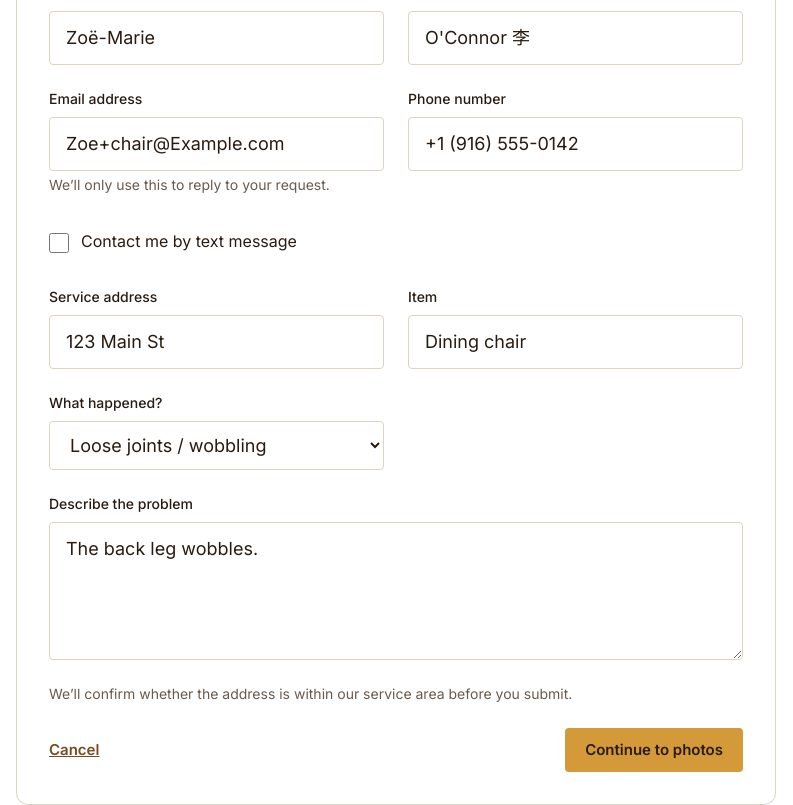
Test: EstimateStep1Form › focuses form-level server errors, including city errors without a hidden city control
(page scrolled)
Step 1. Click the button "Continue to photos" → {"x": 654, "y": 750}, box 565,728 -> 743,772
(page scrolled)
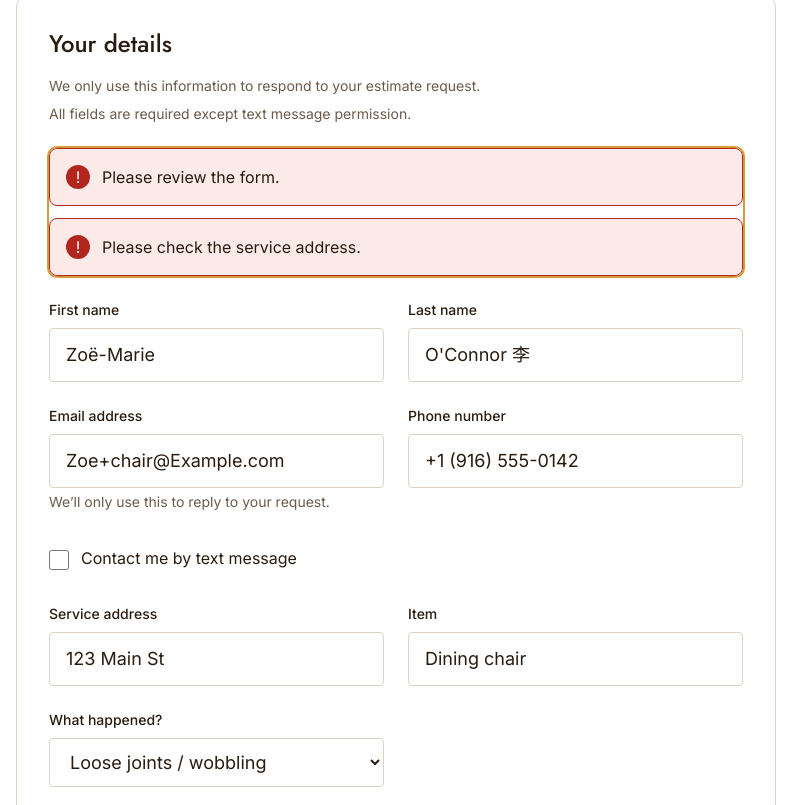
Expected: the text "Please check the service address." is shown, 102,237 -> 361,257
